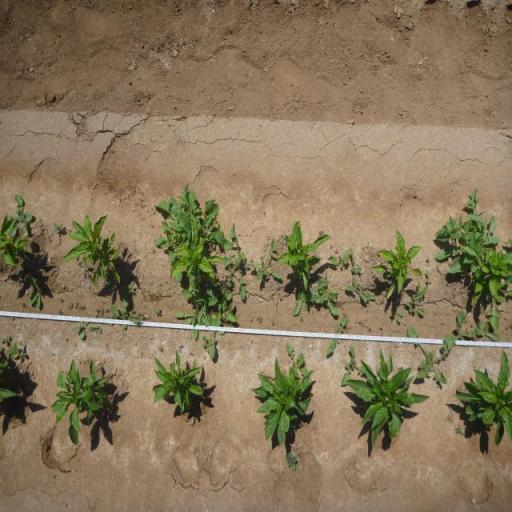plant: (345, 349, 429, 453), (248, 353, 317, 450), (48, 356, 116, 448), (454, 348, 512, 450), (63, 214, 122, 290), (369, 226, 424, 300), (149, 347, 206, 416), (277, 219, 332, 287), (170, 221, 221, 284), (461, 245, 512, 305), (0, 214, 35, 271)
weed: (149, 180, 224, 268), (433, 185, 503, 279), (221, 222, 285, 301), (189, 275, 239, 363), (404, 325, 457, 386), (104, 295, 141, 331), (312, 270, 340, 316), (8, 192, 33, 237), (257, 238, 279, 285), (175, 288, 199, 331), (325, 315, 348, 358), (282, 340, 309, 376), (452, 309, 481, 342), (476, 316, 503, 345), (294, 283, 316, 318), (342, 346, 362, 380), (72, 321, 103, 342), (346, 277, 367, 305), (26, 276, 42, 310), (326, 248, 350, 270), (6, 338, 26, 361), (349, 246, 363, 275), (409, 281, 427, 302), (405, 301, 426, 317), (284, 451, 299, 473), (78, 260, 90, 277), (389, 311, 404, 324), (53, 220, 64, 235), (366, 291, 376, 306), (68, 302, 85, 310), (0, 334, 11, 346), (201, 335, 209, 351), (125, 284, 135, 294), (425, 268, 431, 284), (105, 275, 111, 289), (154, 306, 160, 316), (178, 344, 184, 354), (276, 293, 282, 300), (256, 316, 262, 323), (455, 428, 462, 434), (158, 345, 163, 352)
